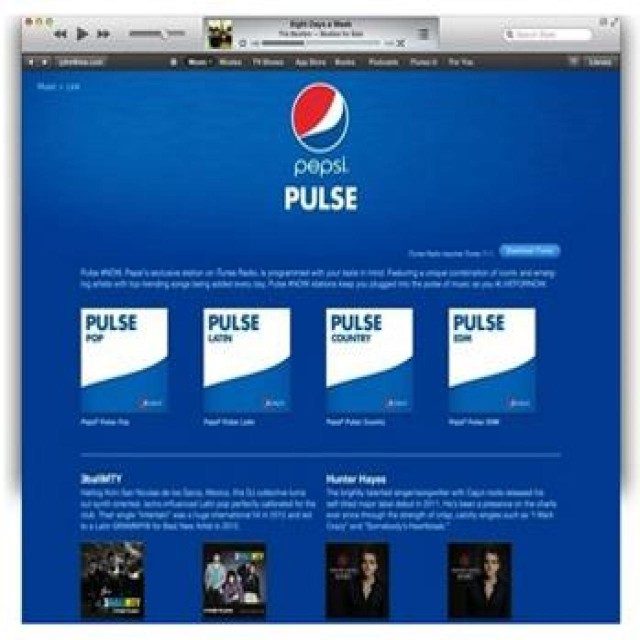pepsi: (292, 82, 350, 157)
